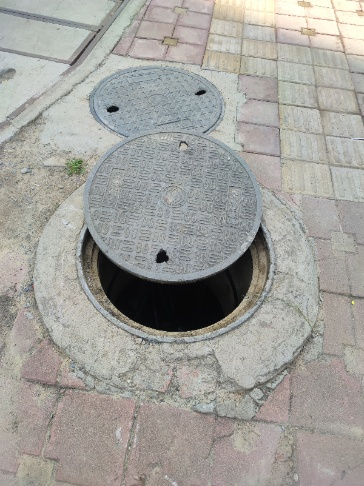good: (90, 64, 227, 141)
uncovered: (73, 128, 276, 345)
